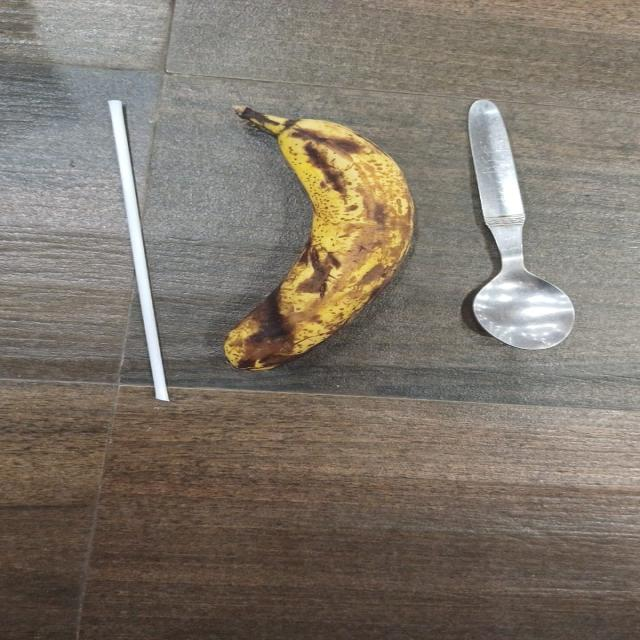Banana-Bio: (225, 104, 424, 369)
Steel-NonBio: (461, 99, 588, 350)
Straw-NonBio: (103, 102, 177, 407)
